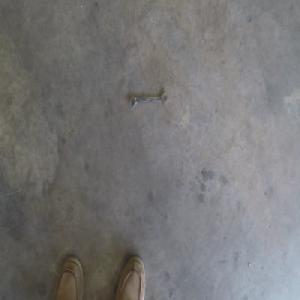Wrench: (129, 91, 167, 108)
